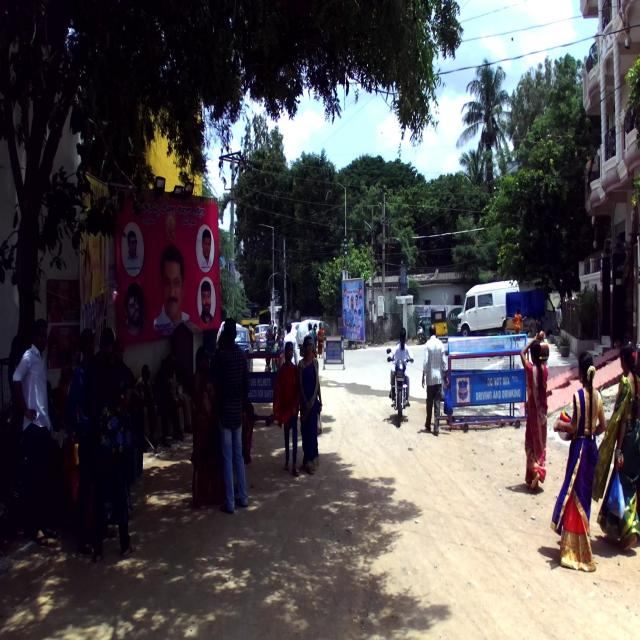mini-bus: (454, 272, 520, 338)
motorcycle_Hero: (386, 347, 413, 427)
truck: (504, 285, 558, 345)
